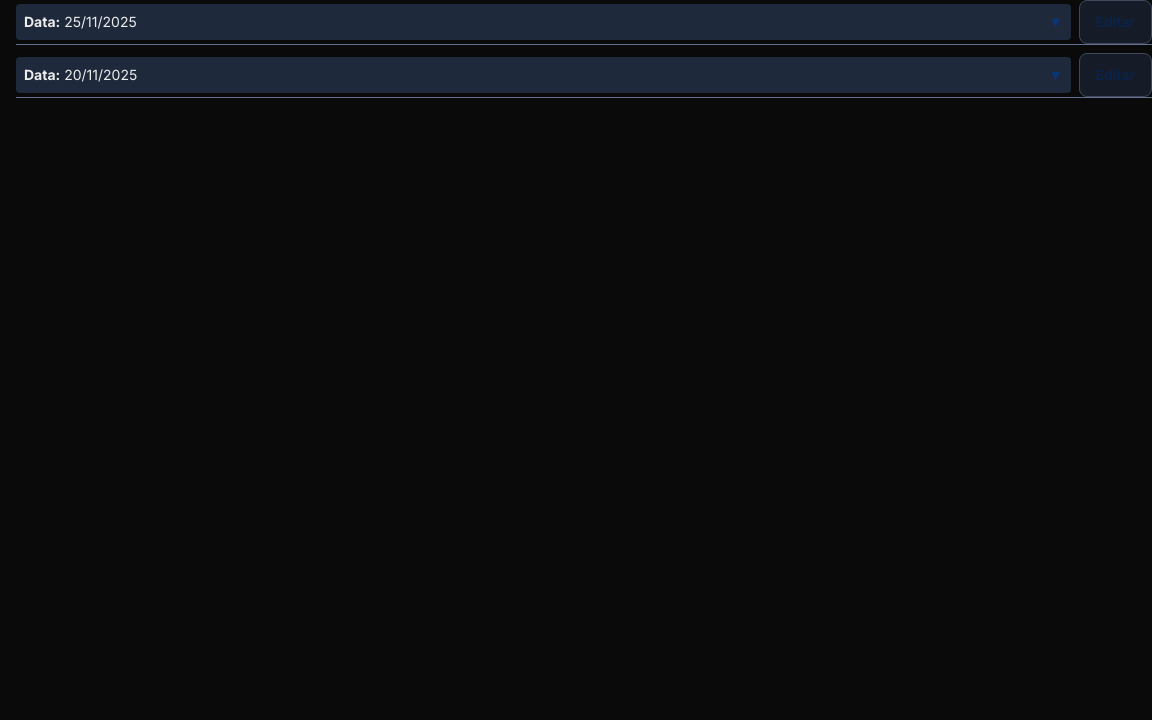
Test: AttendancesDropdown › should handle multiple attendances expanded simultaneously
Note: Expand both attendances
Click the button "Data: 25/11/2025 ▼".
click(42, 22)  # box [16, 4, 1070, 40]
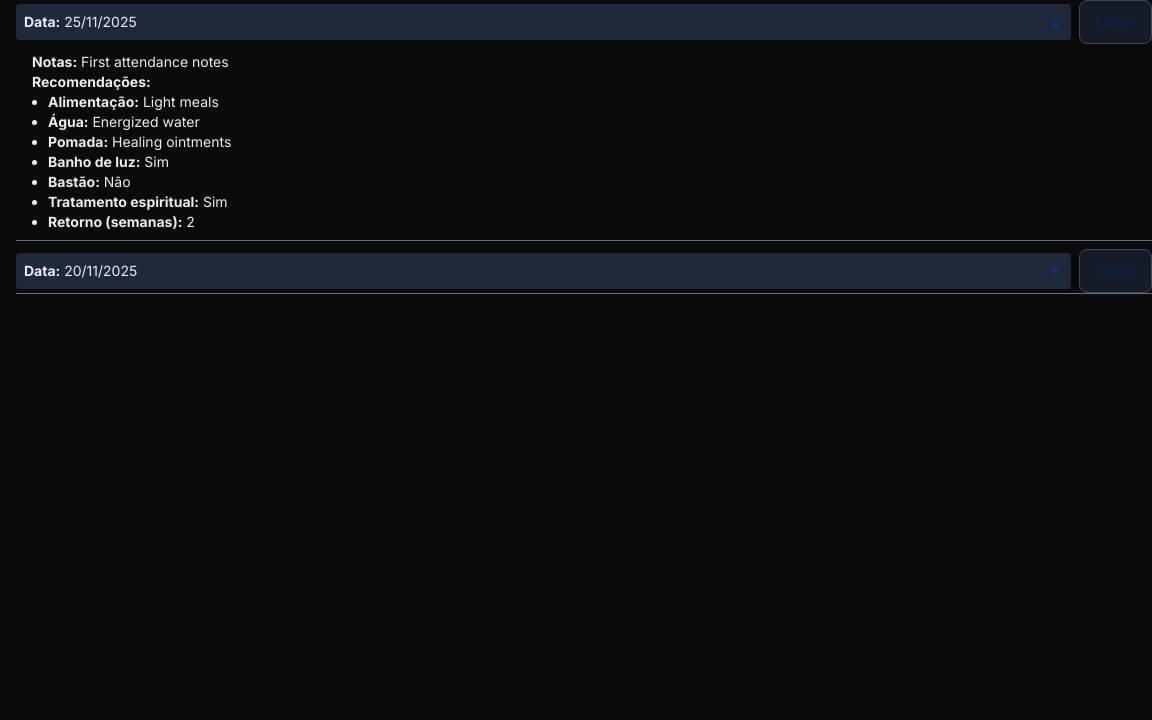
Click the button "Data: 20/11/2025 ▼".
click(42, 270)  # box [16, 253, 1070, 289]
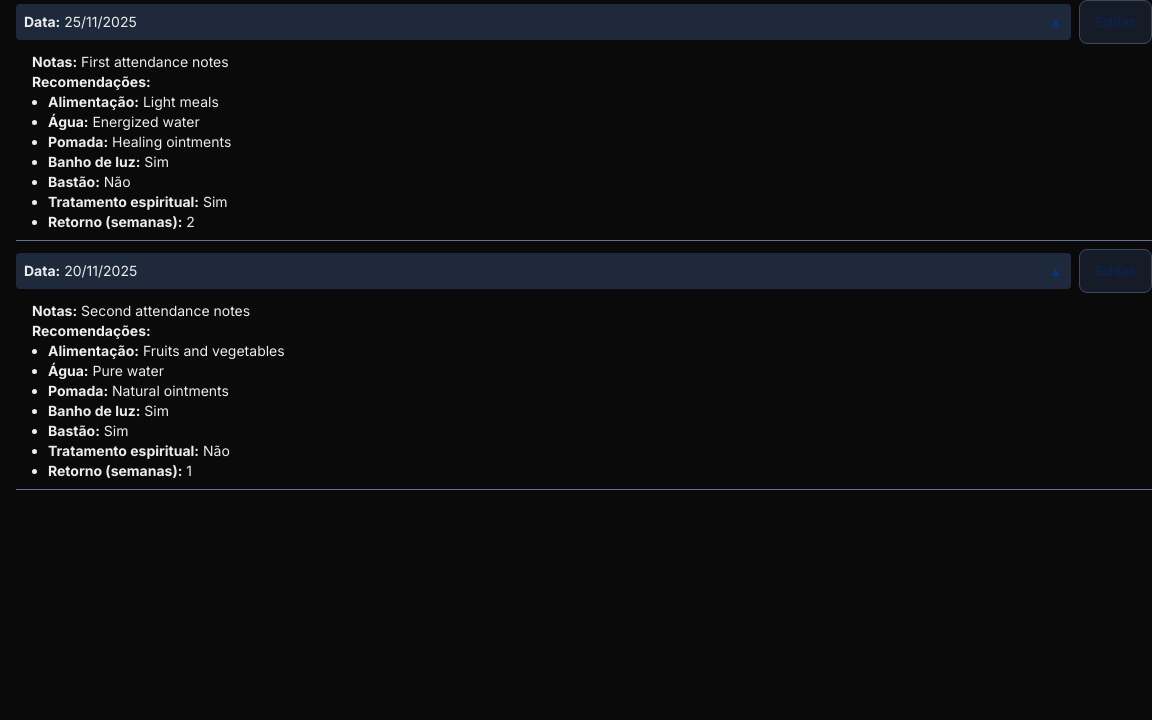
expect the text "▲" is shown 2 times: met, box [1049, 12, 1063, 32]; [1049, 261, 1063, 281]
expect the text "First attendance notes" is shown: met, box [81, 53, 229, 70]
expect the text "Second attendance notes" is shown: met, box [81, 302, 250, 319]
